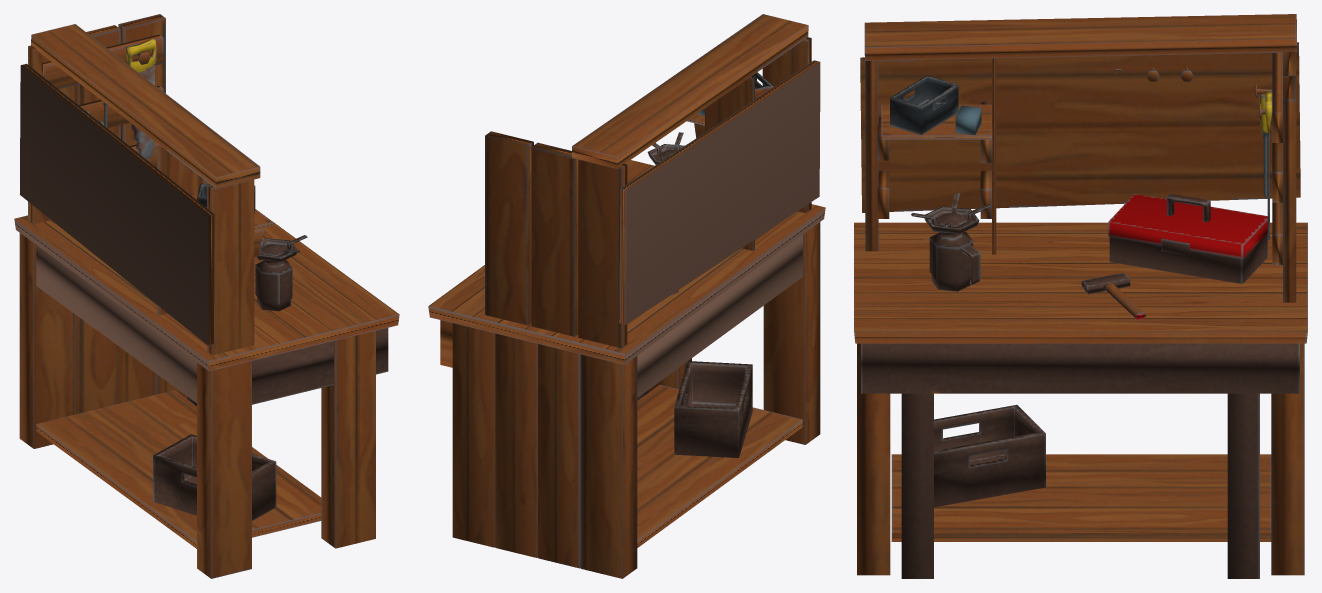
The model's file is Workbench_1lvl.fbx.
3 renders of one model, left to right at view 1: azimuth 30°, elevation 25°; view 2: azimuth 150°, elevation 25°; view 3: azimuth 270°, elevation 25°, orthographic. The views are drawn at different scales.
Visible parts, largest first — view 1: Workbench1; view 2: Workbench1; view 3: Workbench1.
Part boxes in pixels (box(x1,y1,x2,y2)): Workbench1: box(14, 14, 399, 578); Workbench1: box(428, 14, 825, 578); Workbench1: box(854, 14, 1307, 578).
Bounding box in the file's own units: 42.34 × 85.73 × 74.69.
